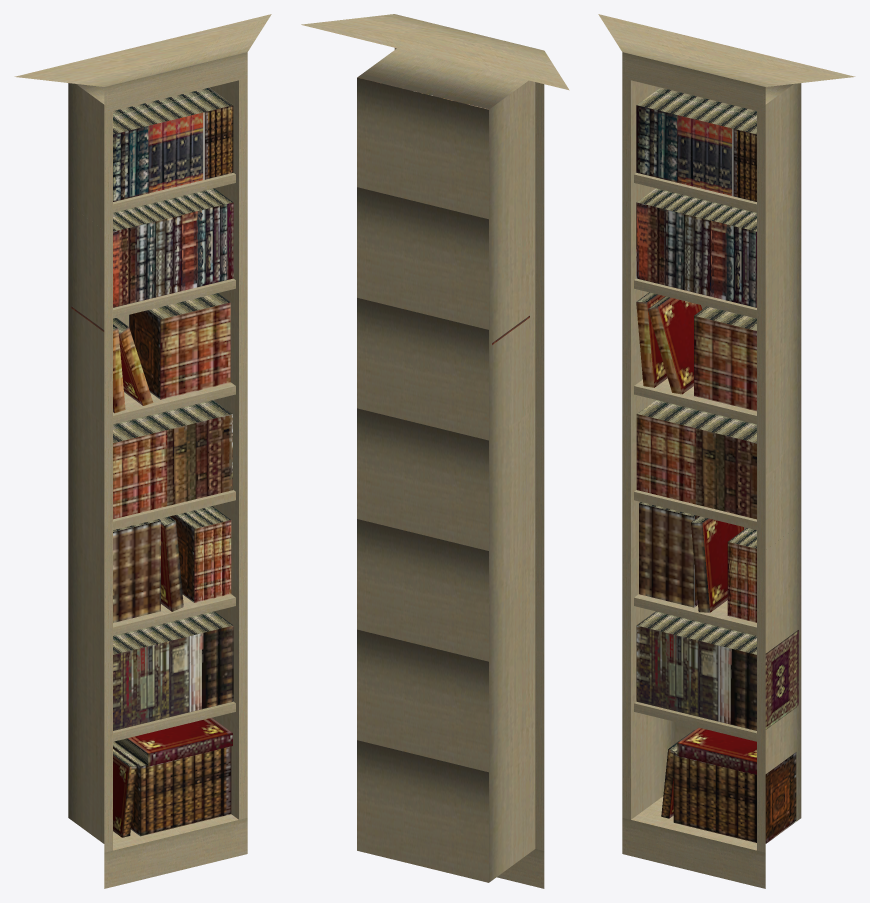
File: bookshelf_merovingian_corner_1.fbx
The picture shows the model from 3 angles, left to right: view 1: azimuth 30°, elevation 25°; view 2: azimuth 150°, elevation 25°; view 3: azimuth 330°, elevation 25°; orthographic projection. The views are drawn at different scales.
Parts seen in each view (by area): view 1: mesh_0, mesh_1; view 2: mesh_0; view 3: mesh_0, mesh_1.
Boxes of the visible parts, x1,y1,x2,y2 form: mesh_0: (14,14,271,888); mesh_1: (73,87,233,766); mesh_0: (301,14,569,888); mesh_0: (598,14,855,888); mesh_1: (636,87,794,753).
Bounding box in the file's own units: 128 × 379 × 38.13.
Materials: 2 (2 with a texture image).
